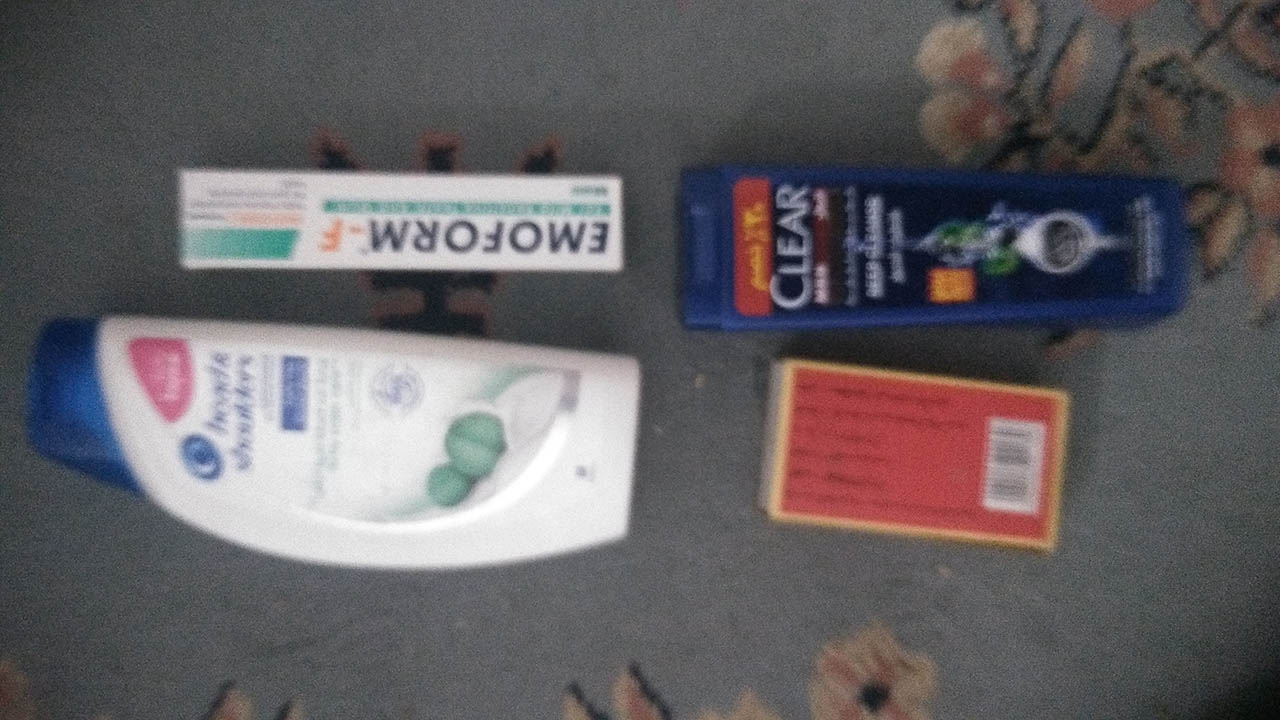Shampoo-Clear 4.7$: (674, 140, 1200, 346)
Toothpaste-F 1.5$: (147, 158, 633, 278)
match-sticks .90$: (760, 345, 1079, 576)
shampoo-green 4.5$: (24, 296, 647, 582)
